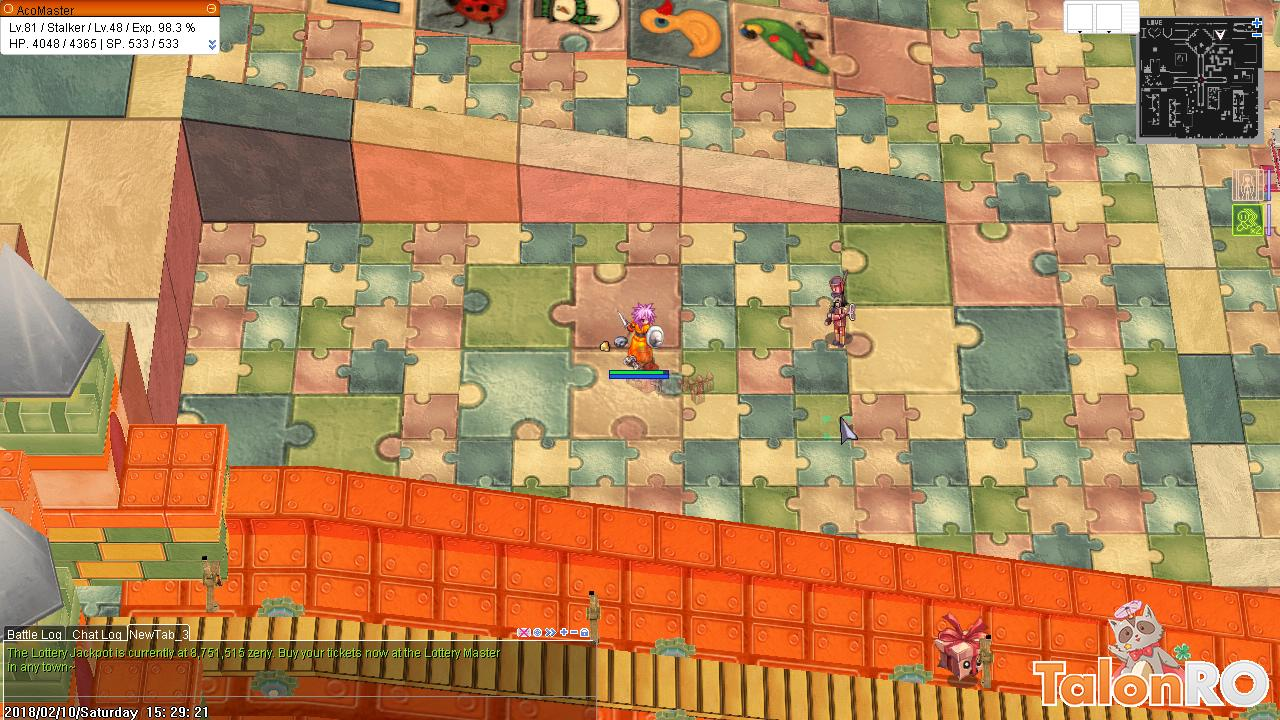loot: (593, 338, 613, 357), (611, 331, 627, 350)
mob: (820, 266, 859, 354)
myst_case: (925, 608, 1000, 688)
